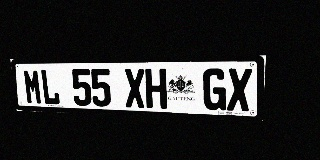5: (90, 69, 112, 107), (71, 69, 92, 106)
G: (203, 68, 227, 111)
H: (145, 69, 167, 109)
L: (40, 69, 60, 105)
M: (23, 69, 43, 105)
X: (227, 68, 252, 111), (124, 69, 146, 108)
